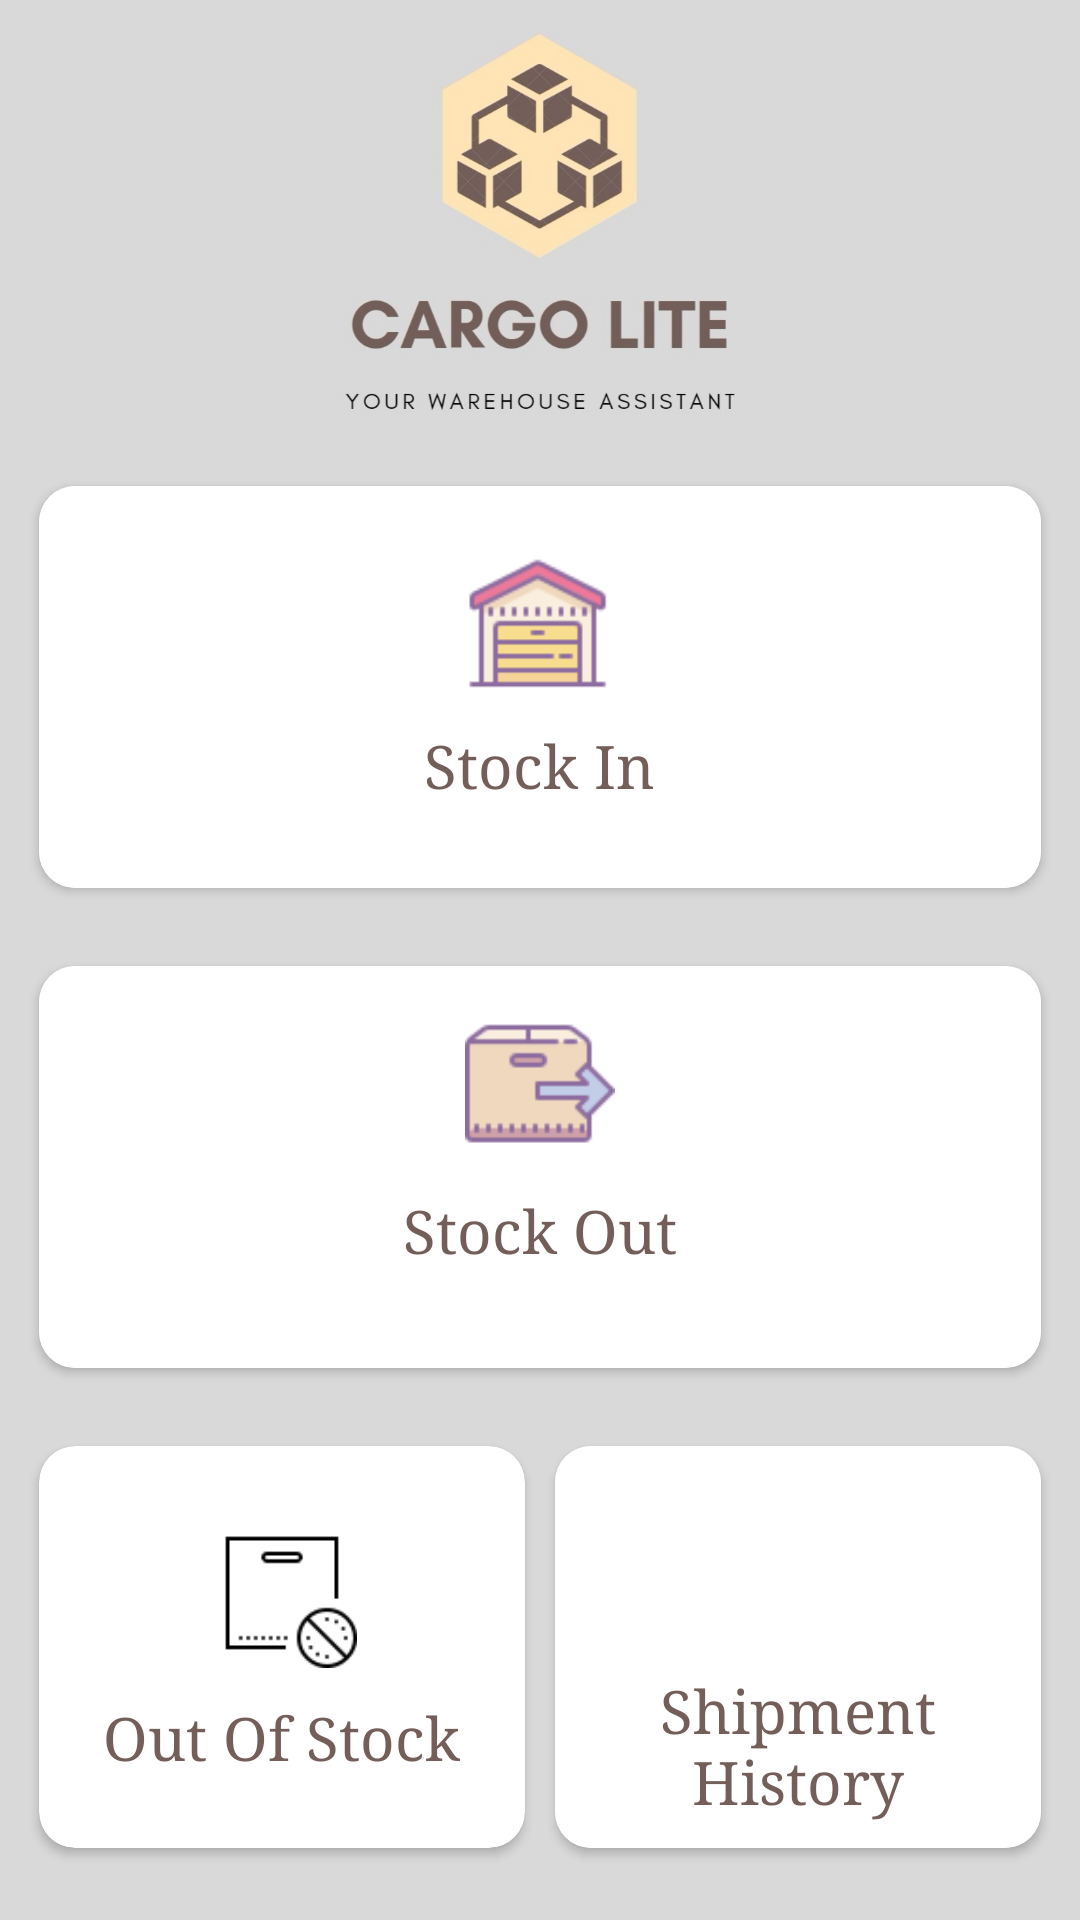

Screen size 1080×1920. Icon name, then its box in pixels as detection(x1, y1, x2, y2):
nostock: detection(225, 1536, 357, 1668)
